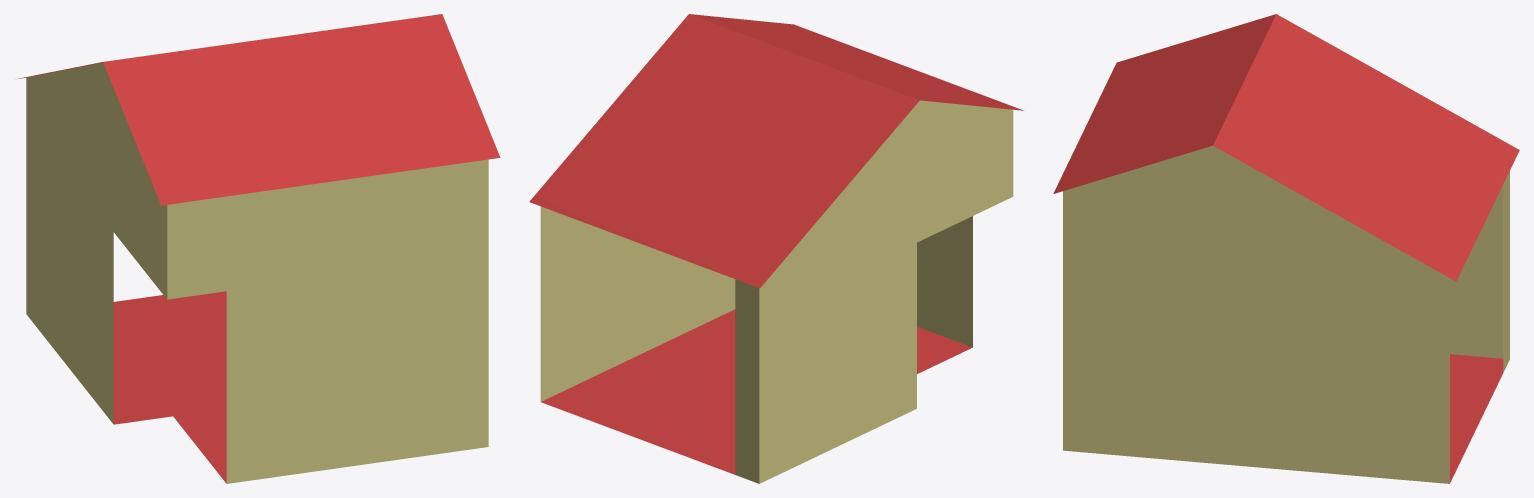
3 views of the same model, side by side, from view 1: azimuth 30°, elevation 25°; view 2: azimuth 150°, elevation 25°; view 3: azimuth 270°, elevation 25° (orthographic). The views are drawn at different scales.
Size of the model in its own units: 11.75 by 13.93 by 10.59.
